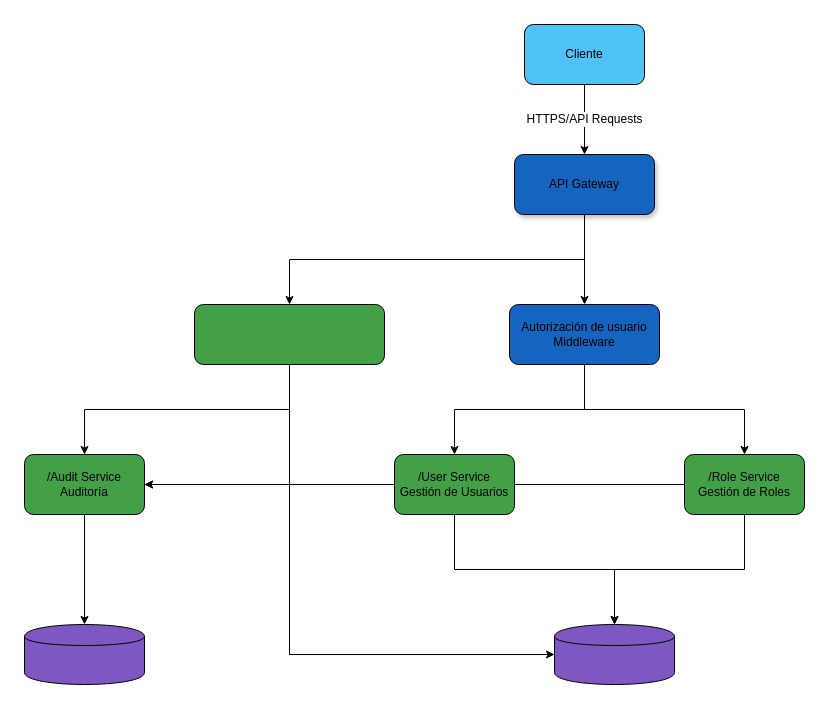
The diagram is 822 pixels wide and 702 high, and some of its shapes have lost their labels. The shapes that lost their labels are listed below. From the top down, each one's centre as x and y in pixels, then its label:
At point (289, 334): "/Auth Service Autenticación de Usuario".
At point (84, 654): "No SQL Database".
At point (614, 654): "SQL Database".
